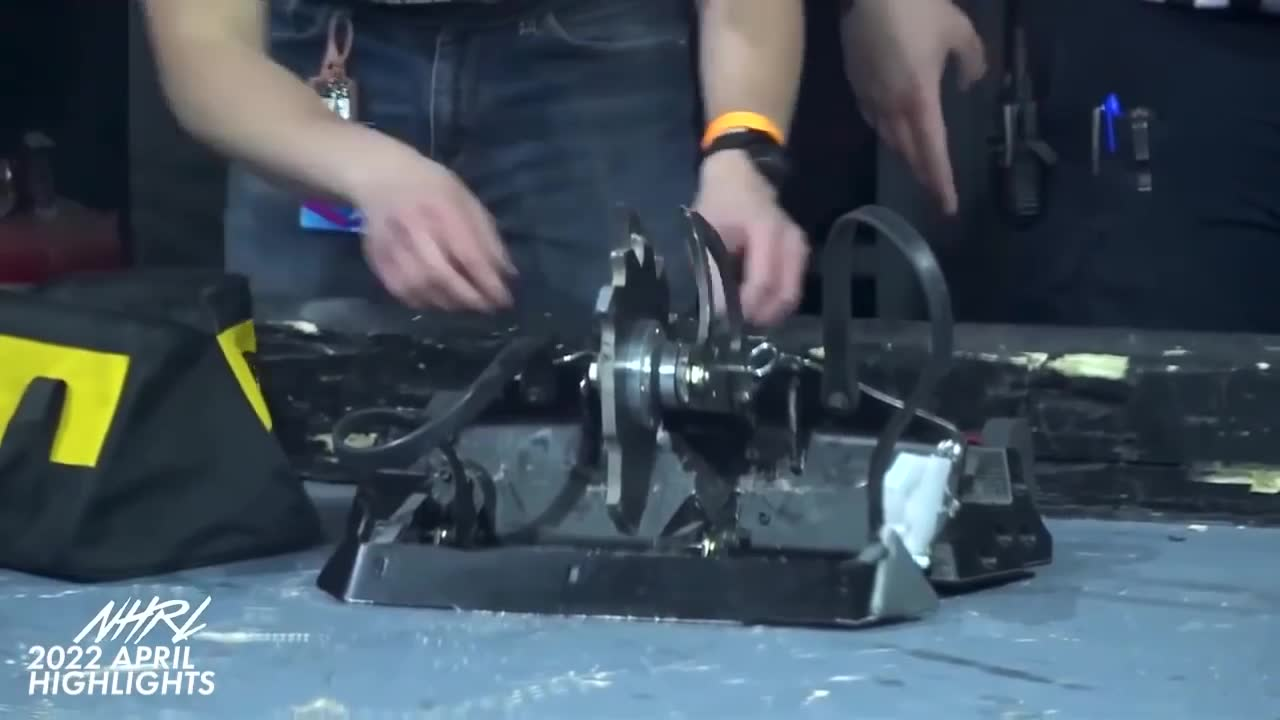combatbot: (315, 333, 1053, 630)
